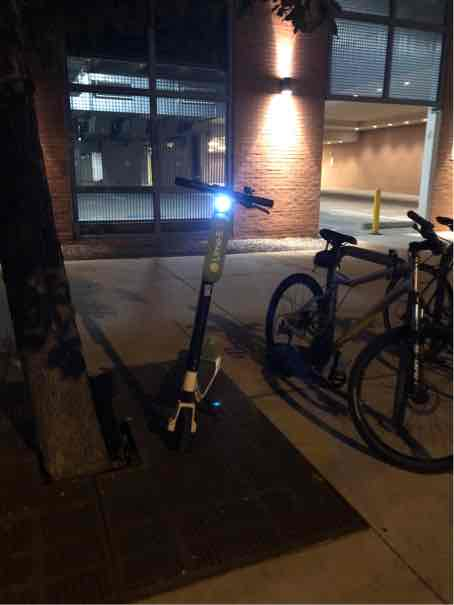scooter: (153, 190, 277, 458)
